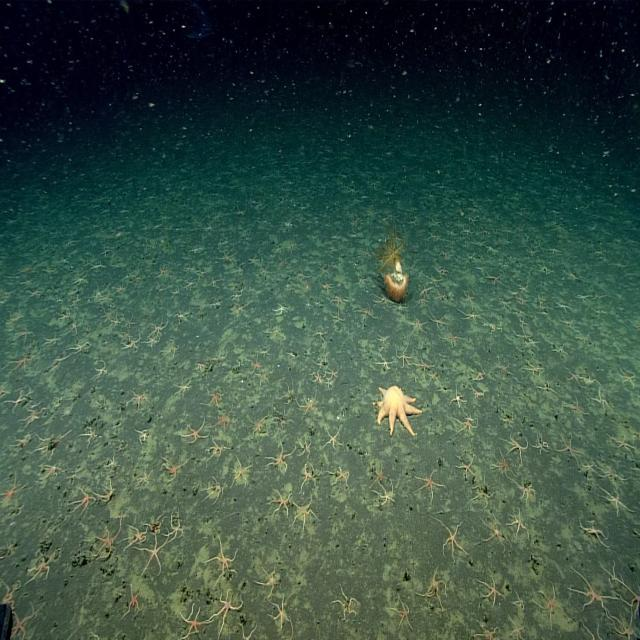brittle-stars: (572, 569, 610, 614), (91, 521, 121, 559), (213, 592, 242, 629), (210, 541, 236, 579), (441, 520, 466, 558), (535, 586, 560, 623), (143, 536, 167, 573), (421, 570, 445, 607), (10, 608, 36, 640), (481, 514, 505, 548), (0, 475, 25, 507), (581, 517, 607, 547), (89, 476, 116, 504), (416, 470, 442, 499), (292, 495, 314, 529), (182, 607, 206, 638), (334, 587, 358, 618), (601, 486, 627, 514), (479, 577, 503, 607), (29, 551, 52, 582), (37, 431, 64, 456), (391, 597, 411, 629), (558, 434, 580, 463), (599, 463, 625, 486), (272, 597, 291, 628), (270, 488, 291, 516), (260, 566, 280, 595), (183, 419, 207, 443), (270, 443, 292, 469), (148, 507, 168, 535), (72, 488, 95, 512), (126, 524, 149, 548), (232, 458, 251, 487), (506, 434, 528, 459), (472, 478, 492, 505), (205, 476, 224, 504), (268, 409, 296, 428), (163, 456, 184, 481), (214, 408, 235, 433), (616, 615, 636, 640), (493, 452, 512, 478), (516, 476, 535, 502), (476, 621, 502, 640), (612, 434, 634, 456), (454, 416, 477, 437), (128, 586, 144, 616), (203, 386, 223, 410), (510, 511, 529, 536), (202, 473, 220, 499), (376, 483, 396, 506), (10, 353, 34, 372), (44, 464, 66, 484), (456, 455, 474, 479), (524, 357, 544, 378), (250, 415, 268, 438), (593, 388, 611, 411), (168, 516, 185, 540), (418, 354, 434, 379), (332, 466, 351, 487), (510, 617, 527, 640), (300, 394, 318, 415), (324, 429, 342, 450), (566, 397, 583, 418), (209, 440, 226, 461), (175, 380, 192, 400), (396, 347, 412, 368), (620, 368, 636, 389), (301, 462, 316, 484), (238, 625, 260, 640), (131, 390, 149, 408), (83, 426, 101, 444), (25, 407, 44, 424), (444, 330, 462, 347), (71, 340, 90, 356), (14, 325, 33, 341), (299, 437, 313, 458), (282, 382, 296, 403), (124, 336, 141, 353), (429, 311, 446, 328), (357, 303, 373, 321), (136, 426, 152, 444), (461, 308, 479, 324), (565, 368, 581, 386), (151, 317, 167, 335), (373, 465, 388, 484), (137, 467, 152, 486), (452, 388, 466, 408), (412, 316, 427, 334), (68, 317, 83, 335), (536, 434, 550, 453), (553, 343, 568, 360), (514, 590, 526, 611), (378, 354, 393, 370), (164, 342, 179, 358), (485, 271, 501, 286), (376, 292, 392, 307), (44, 333, 60, 348), (496, 357, 510, 374), (273, 303, 290, 317), (96, 359, 108, 378), (124, 314, 139, 329), (312, 371, 326, 387), (144, 336, 160, 350), (471, 364, 484, 381), (560, 315, 575, 329), (470, 386, 485, 400), (314, 328, 327, 344), (93, 284, 106, 300), (426, 273, 440, 287), (333, 293, 348, 306), (536, 262, 549, 277), (250, 355, 262, 371), (74, 273, 87, 287), (176, 310, 188, 325), (517, 282, 530, 295), (556, 300, 569, 313), (499, 295, 512, 308), (326, 365, 338, 379), (209, 275, 221, 289), (106, 456, 118, 470), (320, 280, 334, 292), (159, 264, 171, 278), (585, 459, 597, 473), (516, 294, 530, 306), (184, 278, 196, 291), (548, 245, 562, 256), (272, 324, 282, 339), (419, 285, 432, 296), (576, 291, 589, 302), (248, 254, 260, 265), (232, 289, 243, 301), (464, 290, 474, 303), (184, 265, 194, 276)
